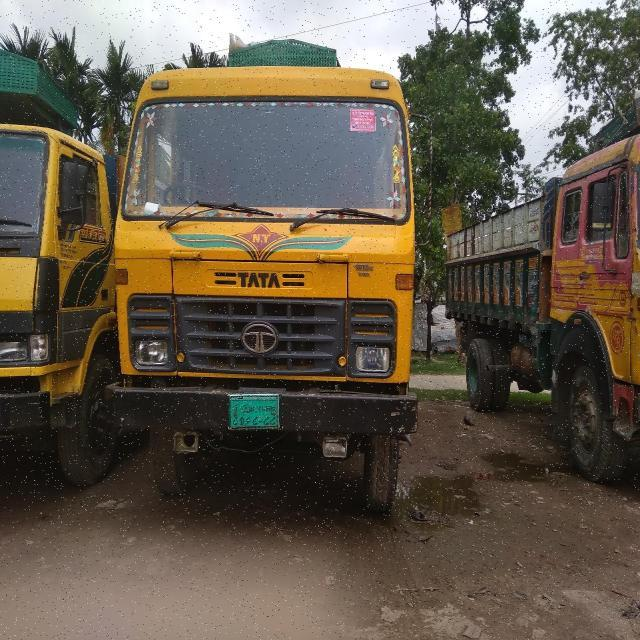numberplate: (228, 393, 282, 430)
